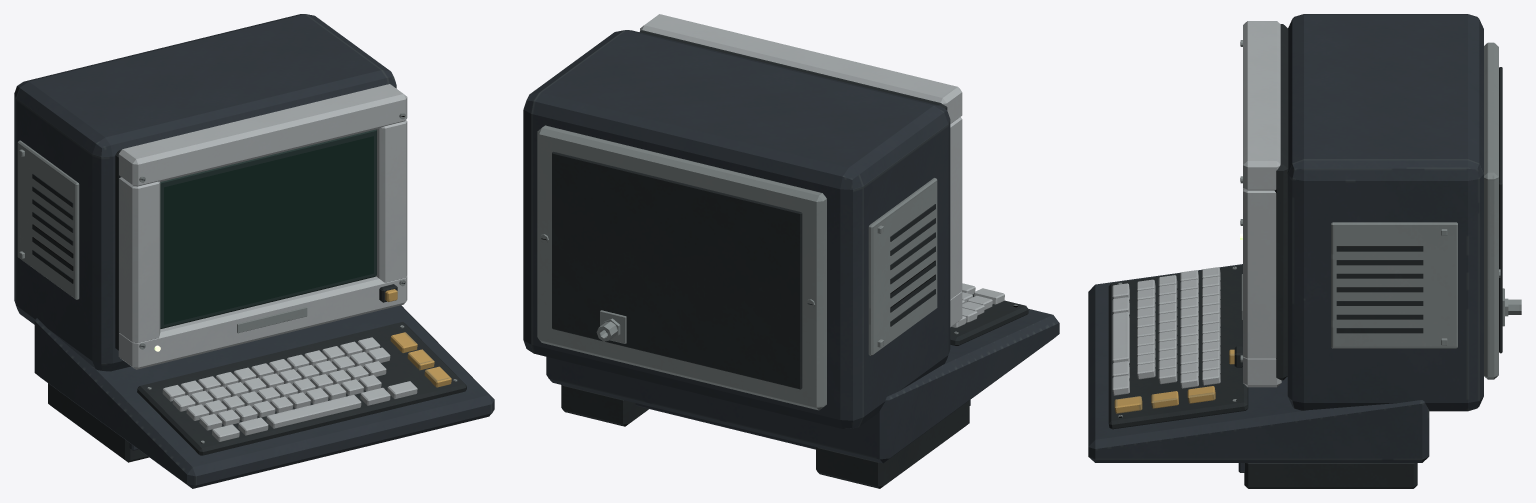
Rendered from bunker_terminal_v03.glb.
3 renders of one model, left to right at view 1: azimuth 30°, elevation 25°; view 2: azimuth 150°, elevation 25°; view 3: azimuth 270°, elevation 25°, orthographic. The views are drawn at different scales.
Parts seen in each view (by area): view 1: TerminalHardware, ScreenSurface; view 2: TerminalHardware; view 3: TerminalHardware.
Boxes of the visible parts, left/top/right/bottom form: TerminalHardware: left=14, top=14, right=494, bottom=488; ScreenSurface: left=164, top=136, right=373, bottom=324; TerminalHardware: left=523, top=14, right=1059, bottom=488; TerminalHardware: left=1088, top=14, right=1521, bottom=488.
Size of the model in its own units: 0.677 by 0.6265 by 0.75.
8 materials, 5 textured.
